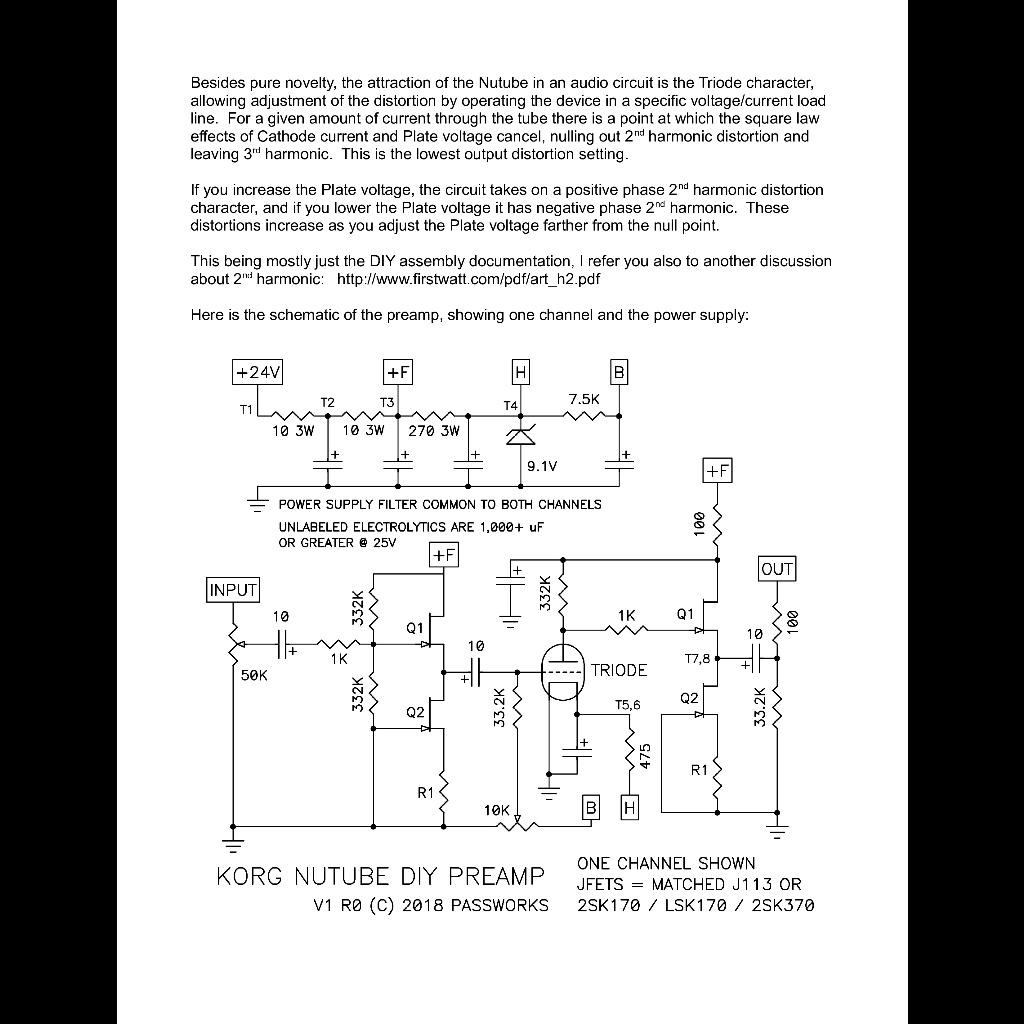Diagram: (193, 343, 829, 925)
